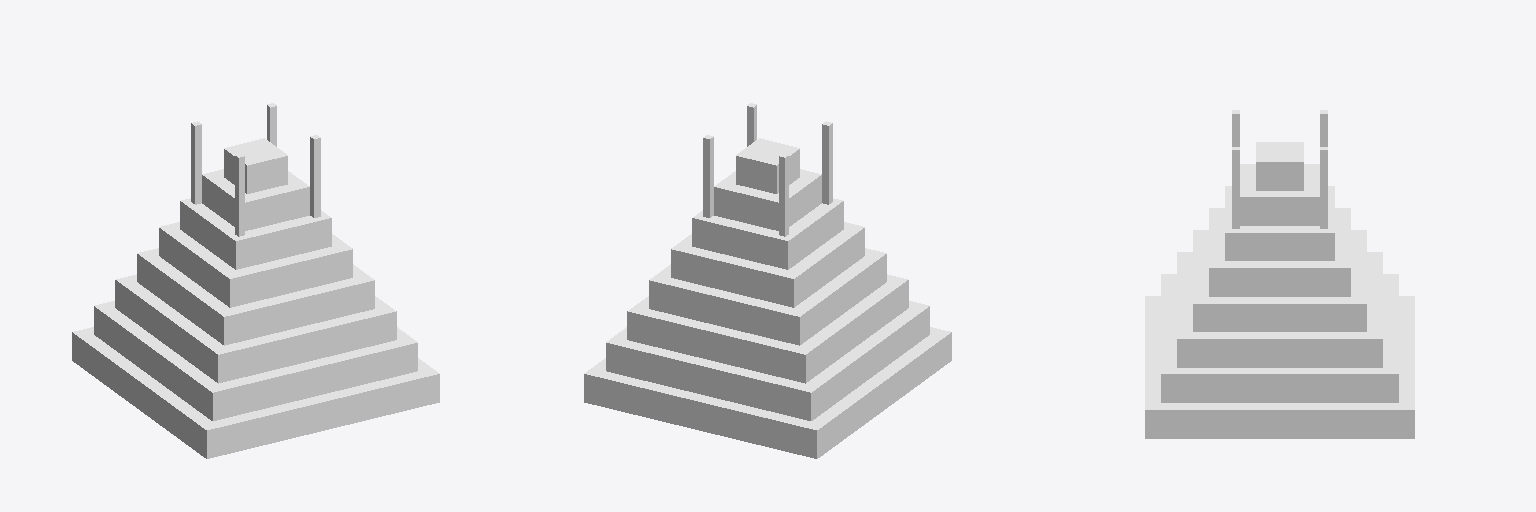
Rendered from BouncingTower1.obj.
3 renders of one model, left to right at view 1: azimuth 30°, elevation 25°; view 2: azimuth 150°, elevation 25°; view 3: azimuth 270°, elevation 25°, orthographic.
Visible parts, largest first — view 1: BouncingTower1; view 2: BouncingTower1; view 3: BouncingTower1.
Boxes of the visible parts, <box> form: BouncingTower1: <box>72,103,439,458</box>; BouncingTower1: <box>584,103,951,458</box>; BouncingTower1: <box>1145,110,1414,438</box>.
Size of the model in its own units: 34 by 35 by 34.